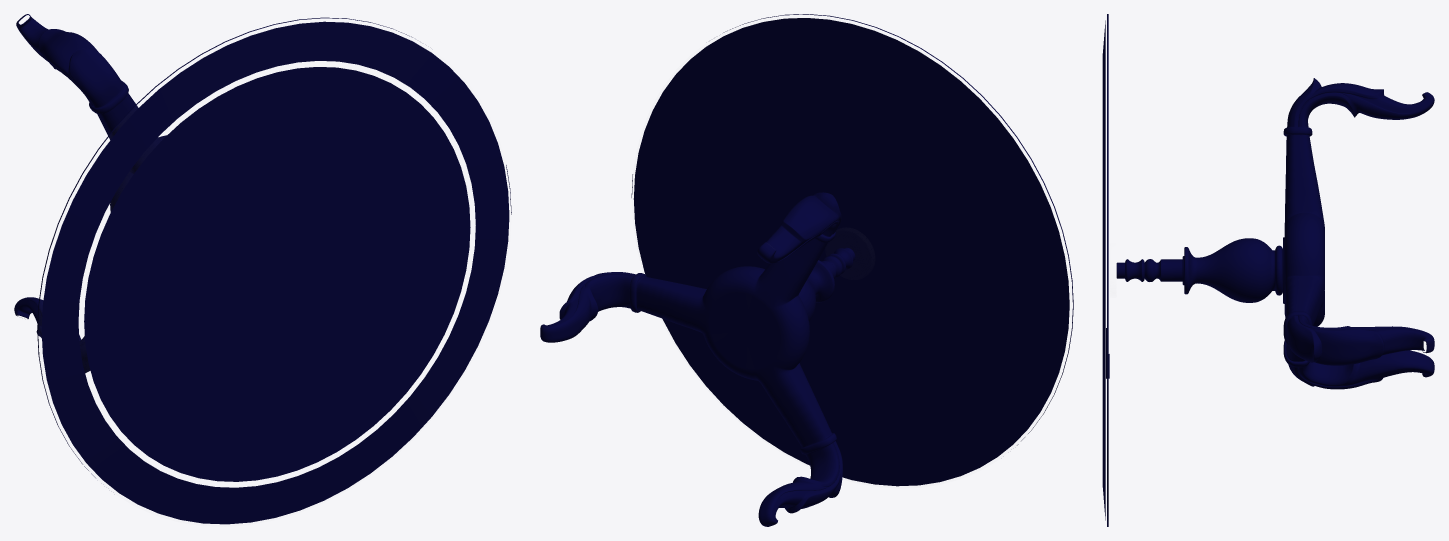
The model's file is 1211224-table-cappellini-new-antiques-n.glb.
3 renders of one model, left to right at view 1: azimuth 30°, elevation 25°; view 2: azimuth 150°, elevation 25°; view 3: azimuth 270°, elevation 25°, orthographic. The views are drawn at different scales.
Parts seen in each view (by area): view 1: cappellini; view 2: cappellini; view 3: cappellini.
Part boxes in pixels (x1,y1,x2,y2): cappellini: [14, 14, 511, 524]; cappellini: [540, 14, 1073, 526]; cappellini: [1102, 14, 1434, 526].
Size of the model in its own units: 600 by 600 by 388.
